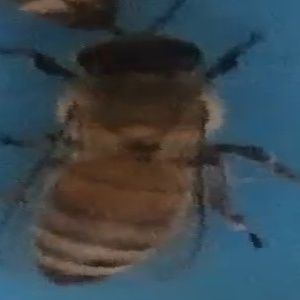bee: (5, 31, 285, 291)
